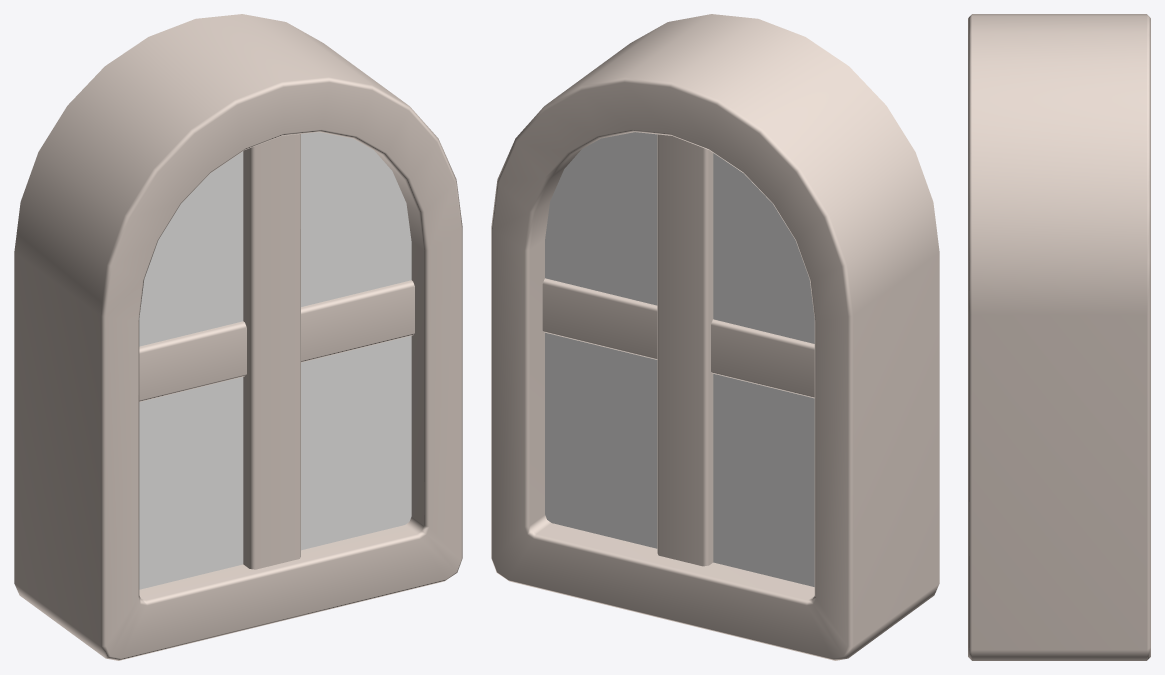
Rendered from Window_6.glb.
3 views of the same model, side by side, from view 1: azimuth 30°, elevation 25°; view 2: azimuth 150°, elevation 25°; view 3: azimuth 270°, elevation 25° (orthographic).
Visible parts, largest first — view 1: Window_10; view 2: Window_10; view 3: Window_10.
Part boxes in pixels (x1,y1,x2,y2): Window_10: [14, 14, 462, 660]; Window_10: [491, 14, 939, 660]; Window_10: [968, 14, 1150, 660].
Size of the model in its own units: 1.1 by 1.56 by 0.473.
Materials: 2 (2 with a texture image).
